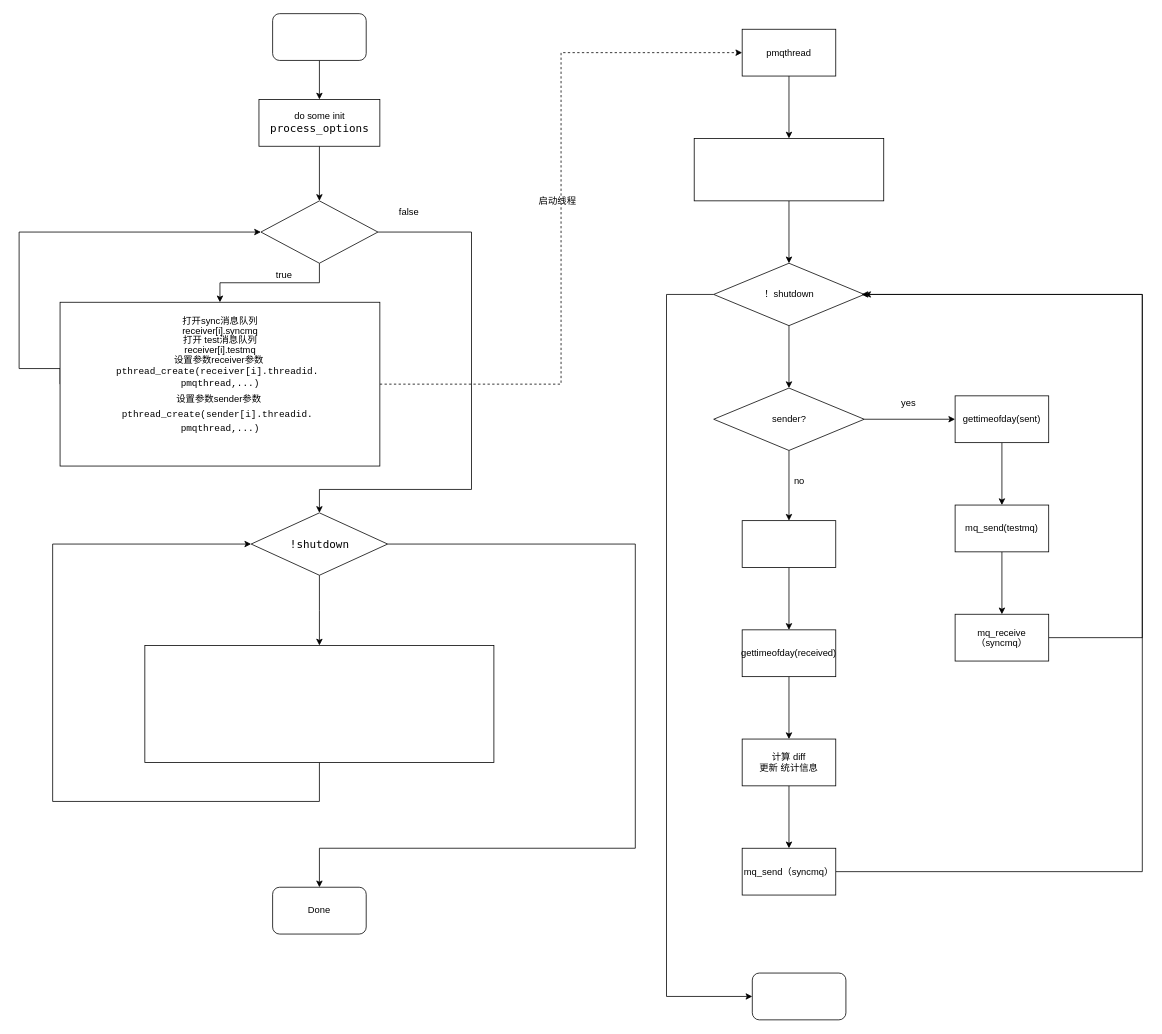
The diagram is 1162 pixels wide and 1034 high, and some of its shapes have lost their labels. The shapes that lost their labels are listed below. From the top down, each one's centre as x and y in pixels, then its label:
At point (319, 36): "main".
At point (788, 169): "参数设置".
At point (319, 231): "i < num_thread".
At point (788, 543): "mq_receive（ testmq ）".
At point (319, 703): "for (i = 0; i < num_threads; i++) { // 打印 统计信息 }".
At point (799, 996): "结束".
